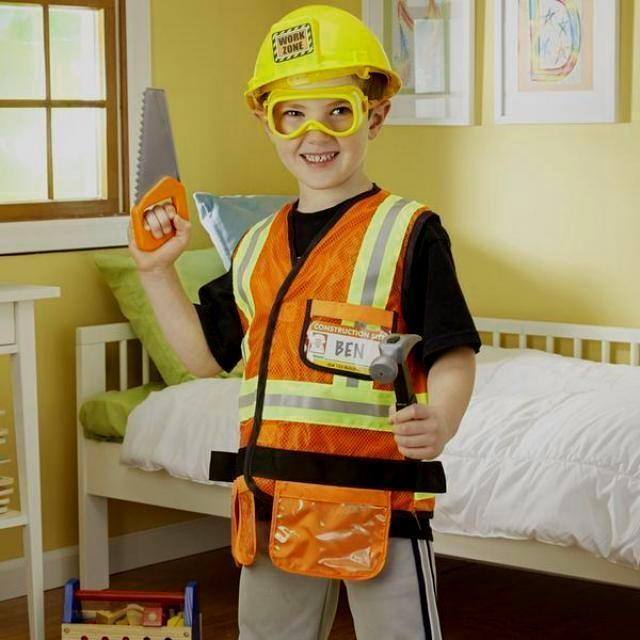vest: (229, 194, 437, 578)
